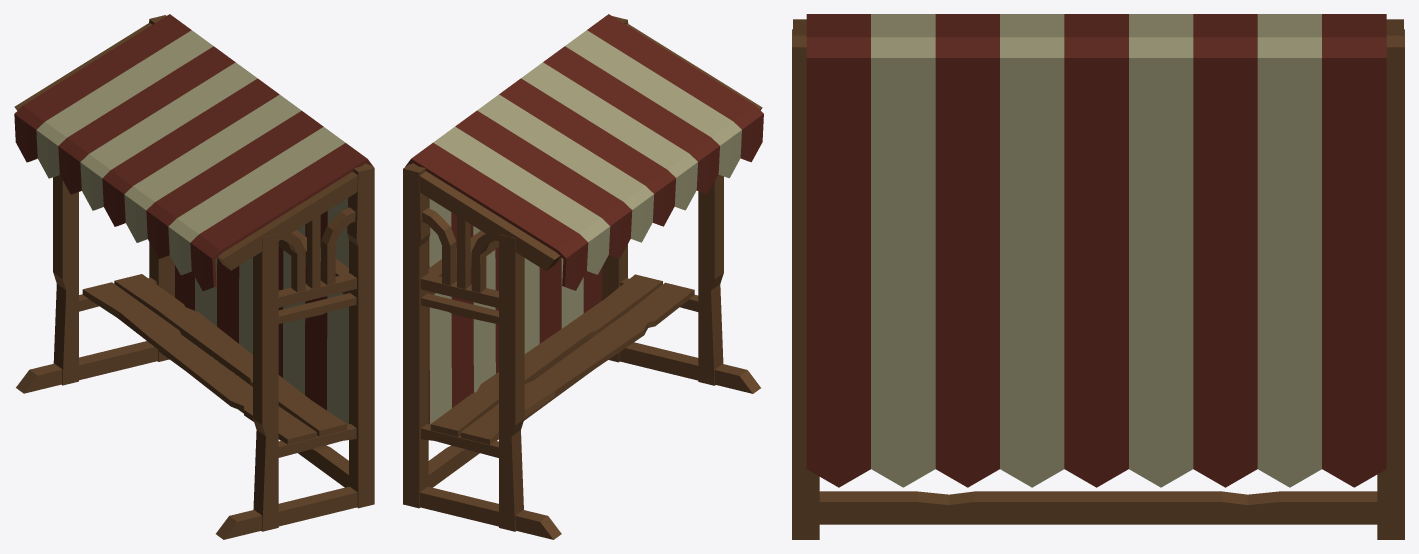
File: Market Stand.glb
3 views of the same model, side by side, from view 1: azimuth 30°, elevation 25°; view 2: azimuth 150°, elevation 25°; view 3: azimuth 270°, elevation 25° (orthographic). The views are drawn at different scales.
Parts seen in each view (by area): view 1: MarketStand_2; view 2: MarketStand_2; view 3: MarketStand_2.
Part boxes in pixels (x1,y1,x2,y2): MarketStand_2: [14, 14, 374, 539]; MarketStand_2: [403, 14, 763, 539]; MarketStand_2: [792, 14, 1404, 539].
Size of the model in its own units: 0.5172 by 1.04 by 1.15.
